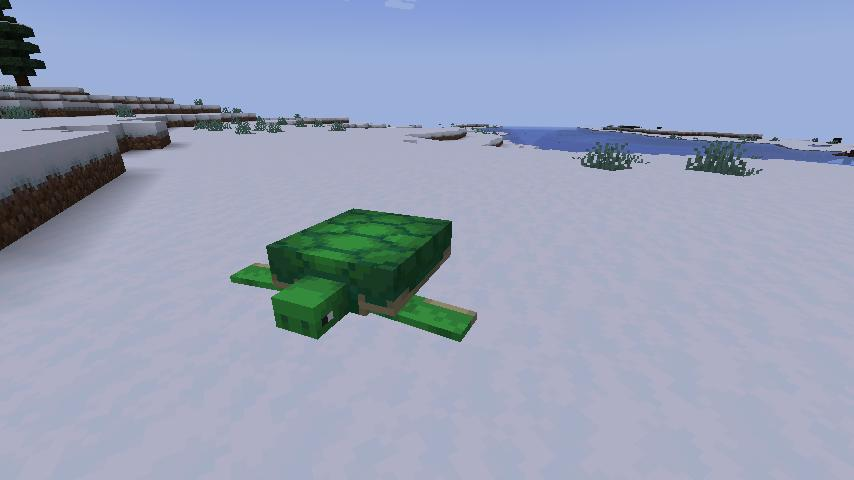turtle: (226, 205, 482, 347)
